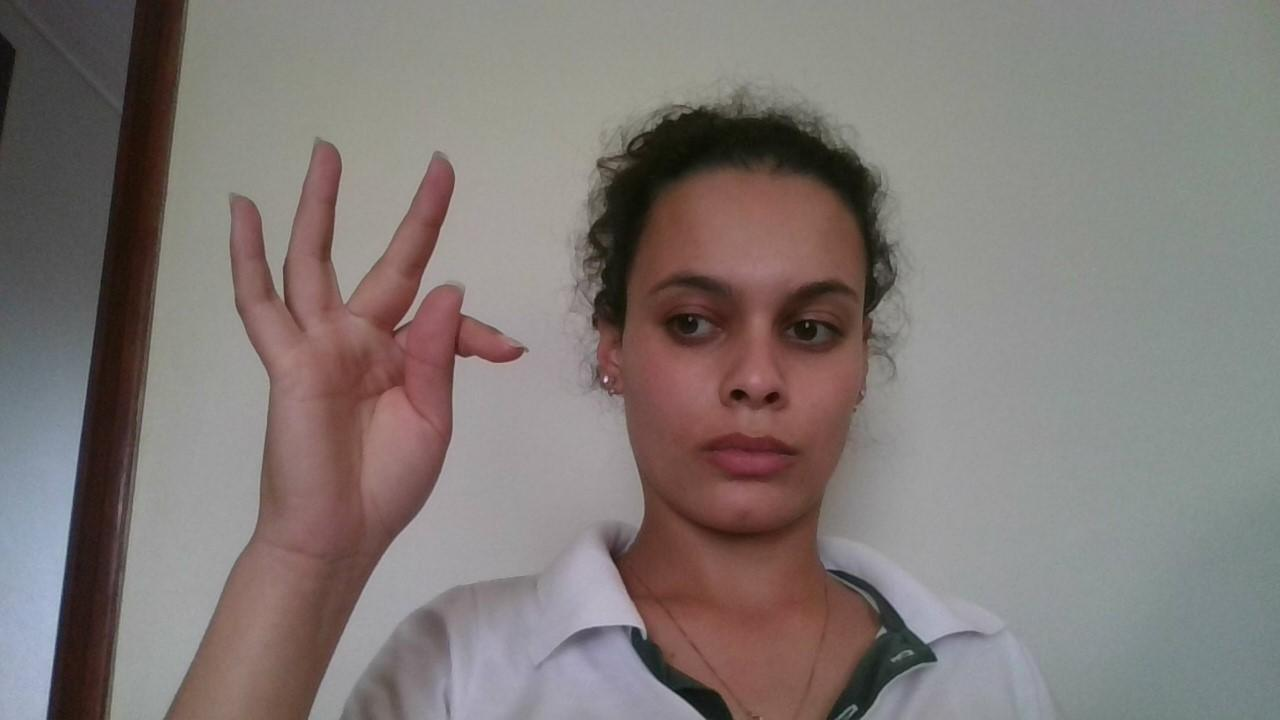T: (220, 142, 540, 540)
